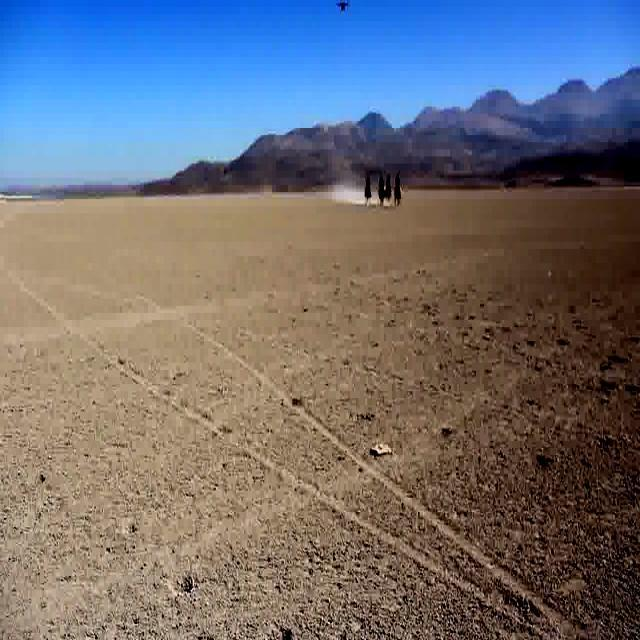drone: (336, 0, 352, 20)
